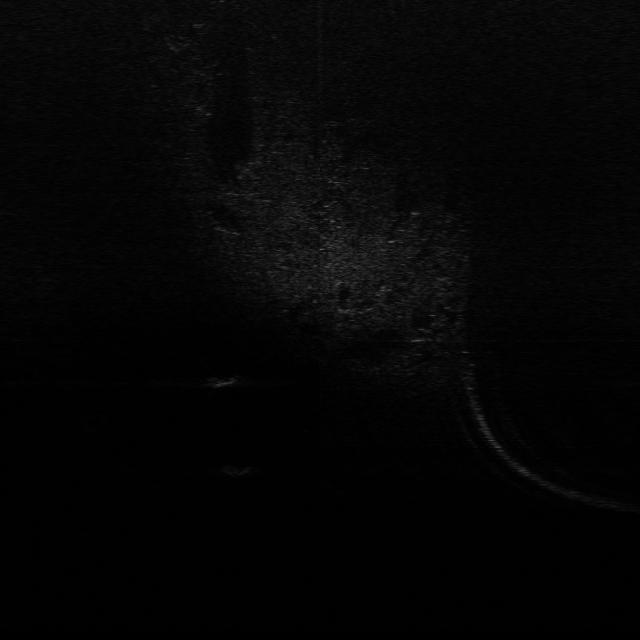cube: (218, 462, 253, 479)
square cage: (204, 372, 243, 389)
